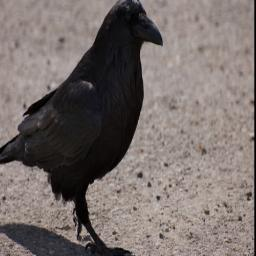Crow: (0, 0, 165, 255)
